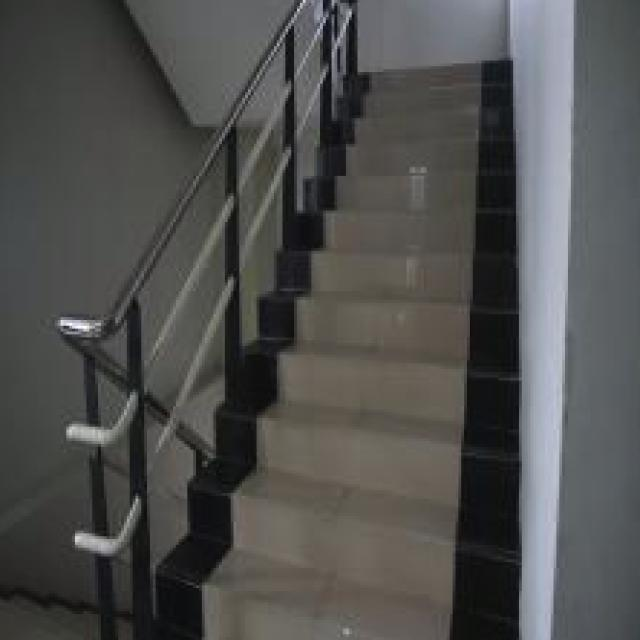upstair: (275, 263, 520, 640)
